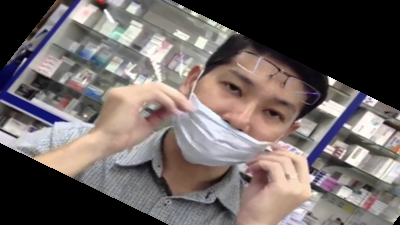mask_weared_incorrect: (165, 26, 332, 192)
